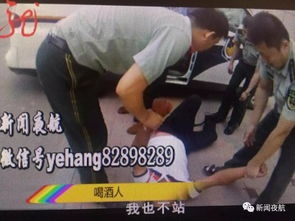falling: (120, 82, 234, 213)
